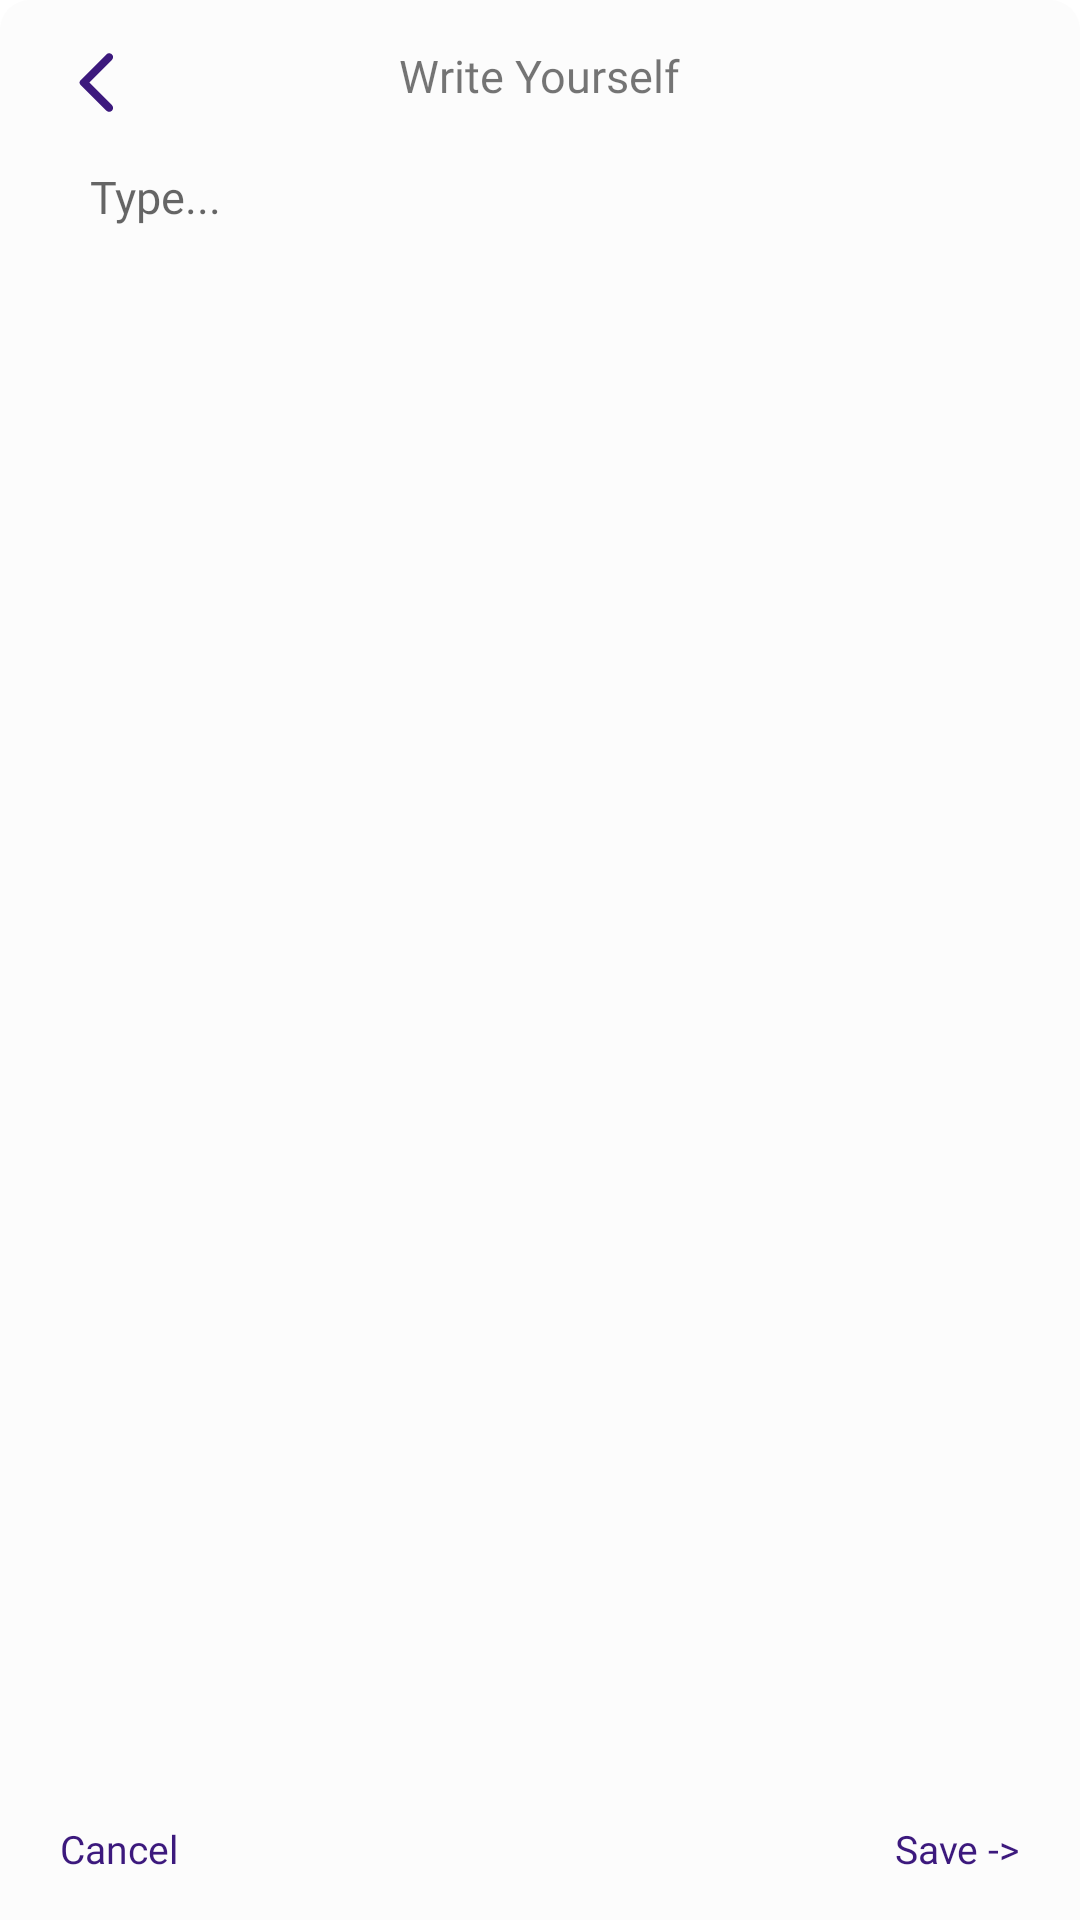

Point at icon controls on the screen. Image size 1080px×1920px, points as [x,y].
arrow back: [96,82]
